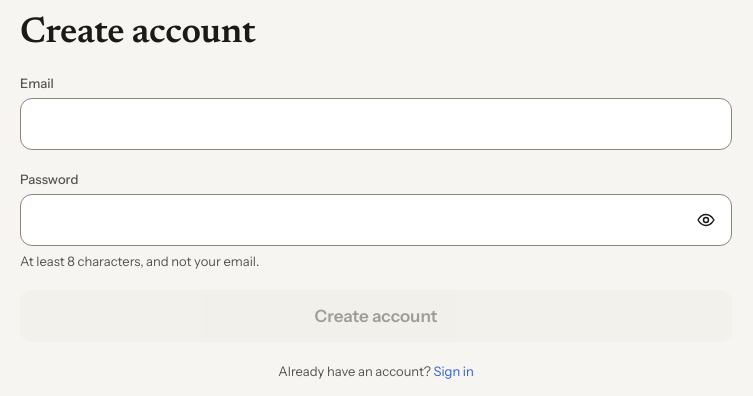
Test case: Create account (AA-1) › T-AA-04: Create account stays disabled until both fields are valid
This screenshot has width=753, height=396.
Expected: the button "Create account" is disabled, [20,290,732,342]
In the field labelled "Email": (376, 124) [20,98,732,150], type "example@gmail.com"
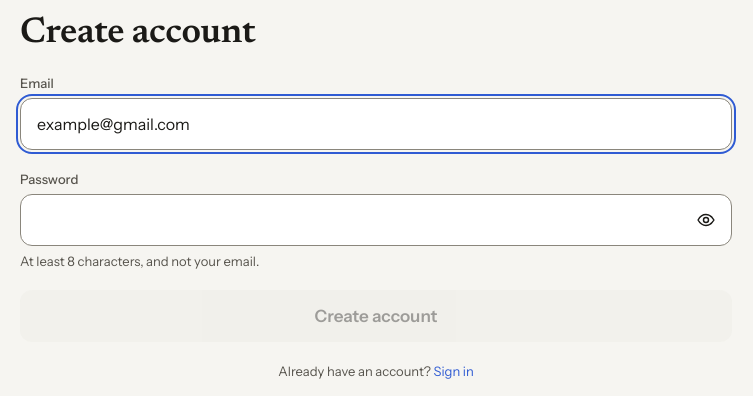
In the password field labelled "Password": (376, 220) [20,194,732,246], type "short"
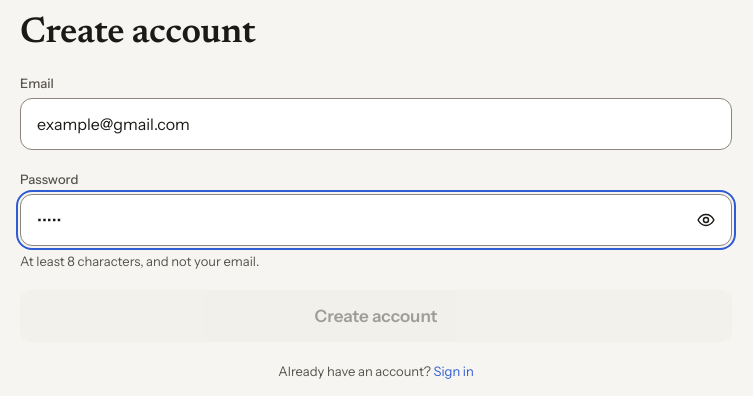
Expected: the button "Create account" is disabled, [20,290,732,342]
In the password field labelled "Password": (376, 220) [20,194,732,246], type " but fine"
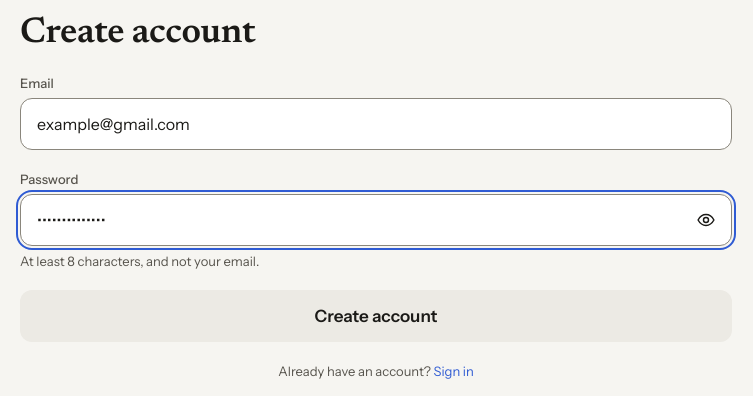
Now the button "Create account" is enabled, box [20,290,732,342]
